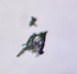microplastic: (14, 30, 49, 59), (28, 16, 38, 28)
